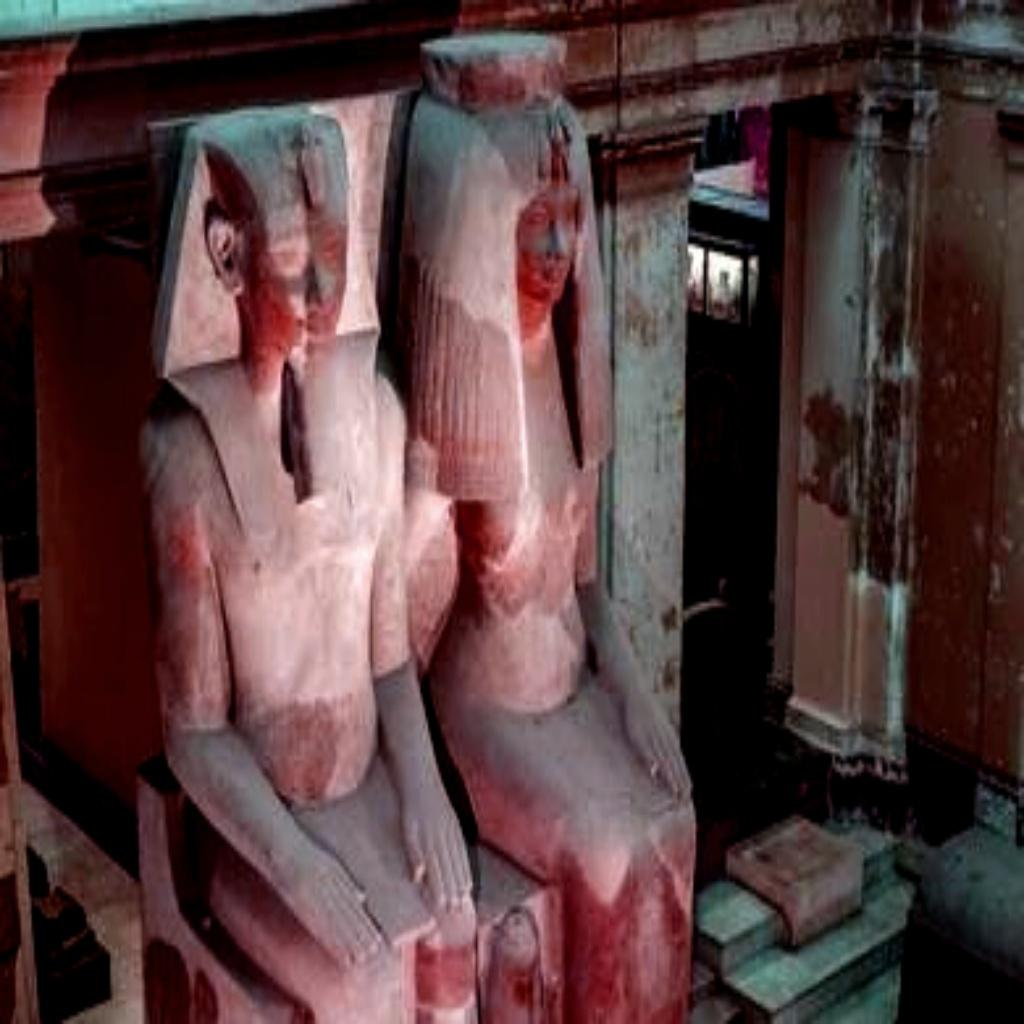Amenhotep III and Tiye: (132, 31, 696, 1024)
